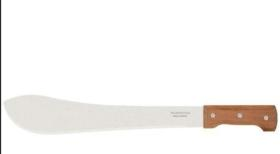MACHETTE: (3, 83, 280, 142)
